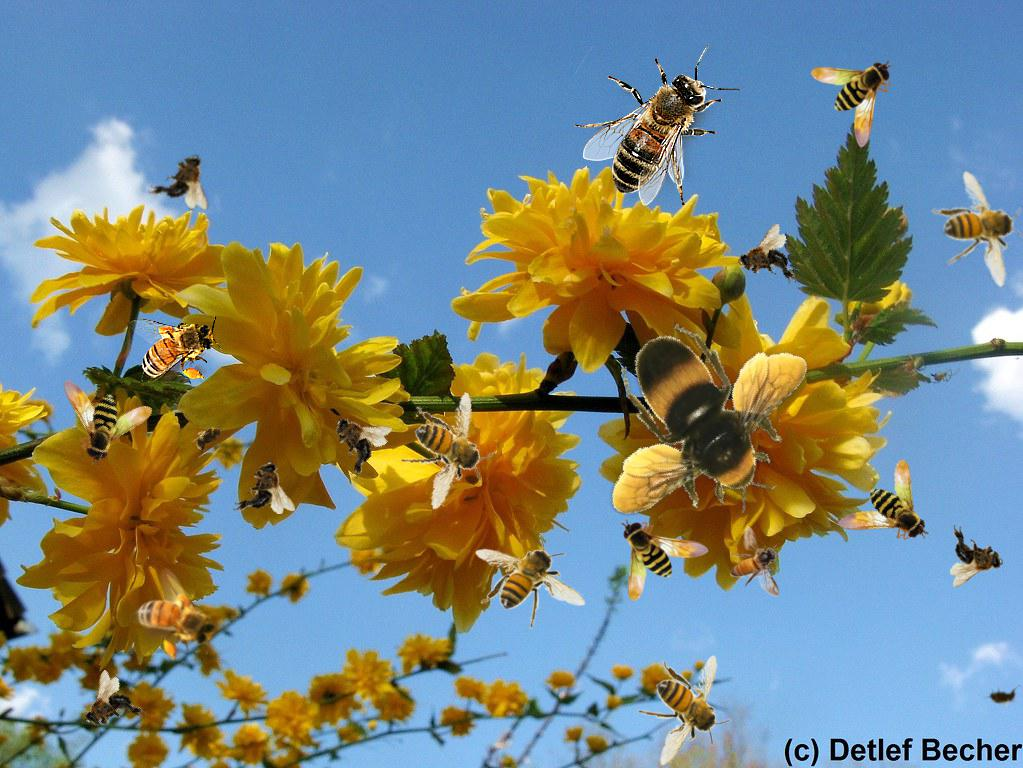Bee: (563, 288, 833, 571), (574, 44, 741, 206), (908, 159, 1023, 305), (40, 349, 160, 469), (390, 389, 503, 515), (119, 562, 233, 677), (475, 535, 586, 629), (637, 655, 731, 766), (827, 457, 931, 555), (811, 60, 893, 148), (621, 519, 709, 601), (68, 667, 151, 749), (316, 400, 395, 482), (129, 315, 222, 383), (730, 222, 801, 298), (146, 144, 221, 214), (730, 526, 780, 597), (233, 461, 295, 514), (950, 525, 1003, 587), (186, 417, 232, 459), (982, 685, 1022, 707)
